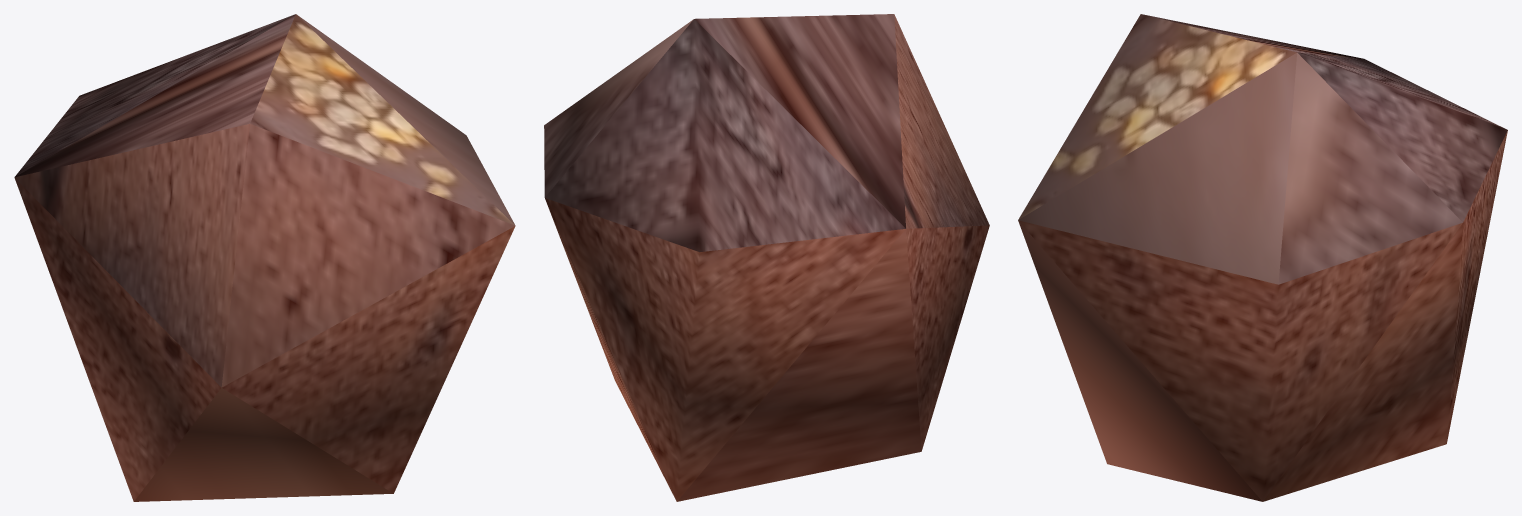
The model's file is muffin_20.obj.
3 views of the same model, side by side, from view 1: azimuth 30°, elevation 25°; view 2: azimuth 150°, elevation 25°; view 3: azimuth 270°, elevation 25° (orthographic).
Size of the model in its own units: 13.43 by 13.17 by 13.94.
1 material, 1 textured.
